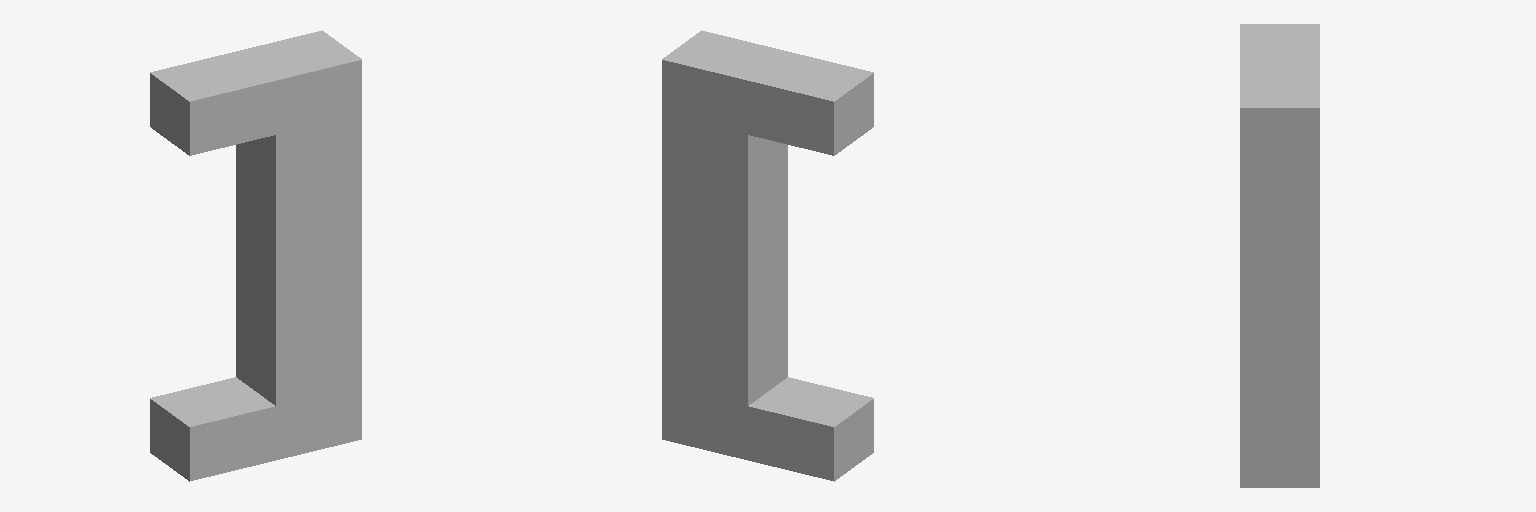
File: handle.obj
The picture shows the model from 3 angles: view 1: azimuth 30°, elevation 25°; view 2: azimuth 150°, elevation 25°; view 3: azimuth 270°, elevation 25°; orthographic projection.
Parts seen in each view (by area): view 1: Body_01; view 2: Body_01; view 3: Body_01.
Boxes of the visible parts, x1,y1,x2,y2 form: Body_01: [150, 30, 361, 481]; Body_01: [662, 30, 873, 481]; Body_01: [1240, 24, 1319, 487].
Bounding box in the file's own units: 0.1 × 0.21 × 0.04.